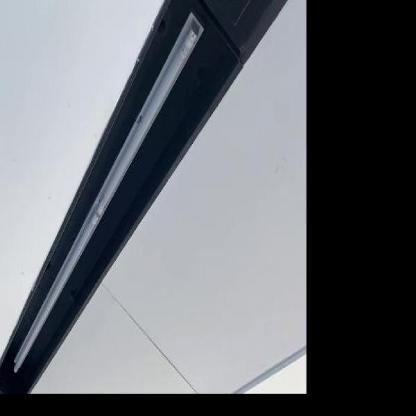light_off: (8, 8, 209, 379)
